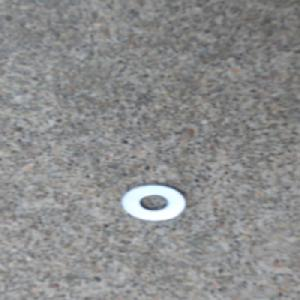Washer: (117, 181, 190, 224)
